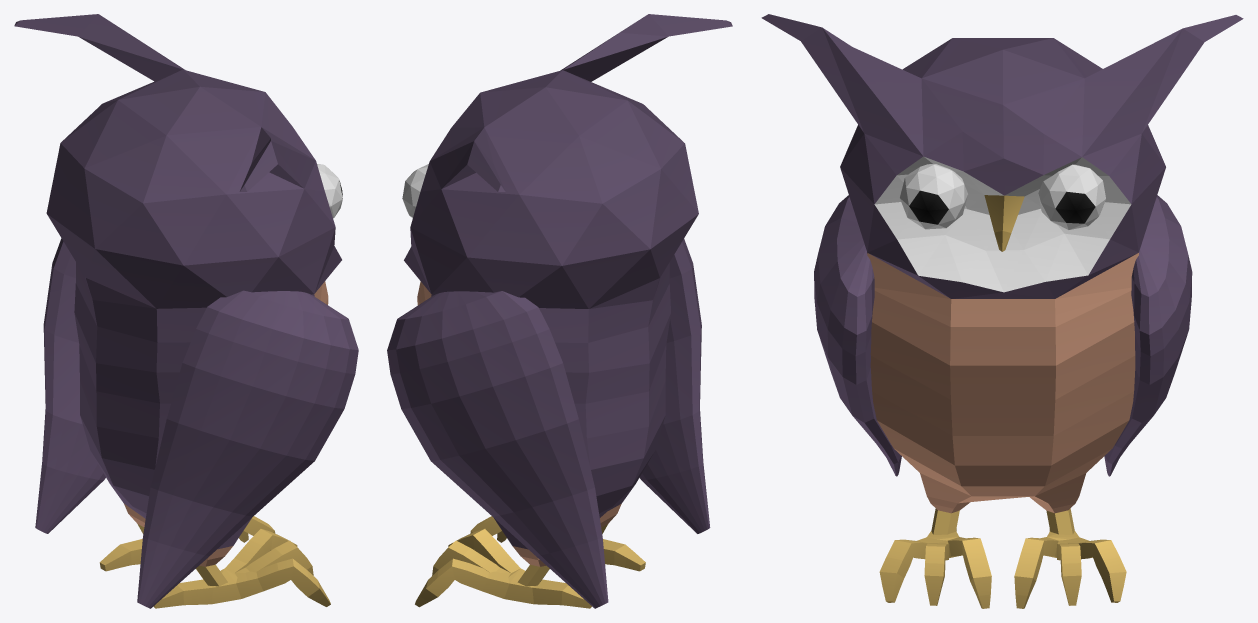
Rendered from owl.glb.
The picture shows the model from 3 angles, left to right: view 1: azimuth 30°, elevation 25°; view 2: azimuth 150°, elevation 25°; view 3: azimuth 270°, elevation 25°; orthographic projection. The views are drawn at different scales.
Parts seen in each view (by area): view 1: owl_merged; view 2: owl_merged; view 3: owl_merged.
Part boxes in pixels (box(x1,y1,x2,y2)): owl_merged: box(14, 14, 358, 608); owl_merged: box(387, 14, 732, 608); owl_merged: box(761, 14, 1243, 608).
Size of the model in its own units: 1.24 by 2.54 by 2.09.
Materials: 1 (1 with a texture image).
